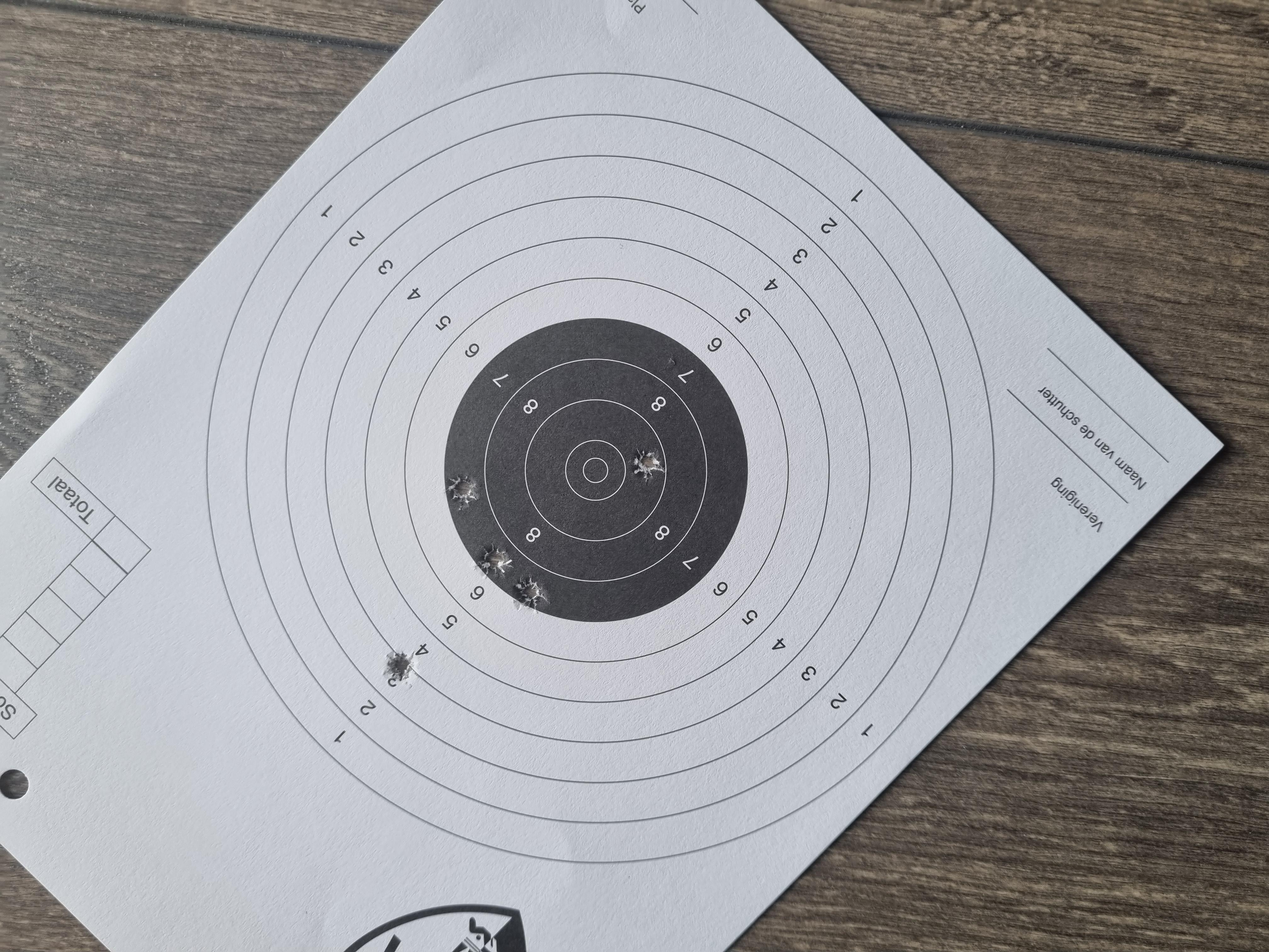hole: (451, 386, 502, 413), (498, 354, 541, 385), (586, 333, 637, 358), (626, 476, 669, 499), (358, 290, 400, 311)
